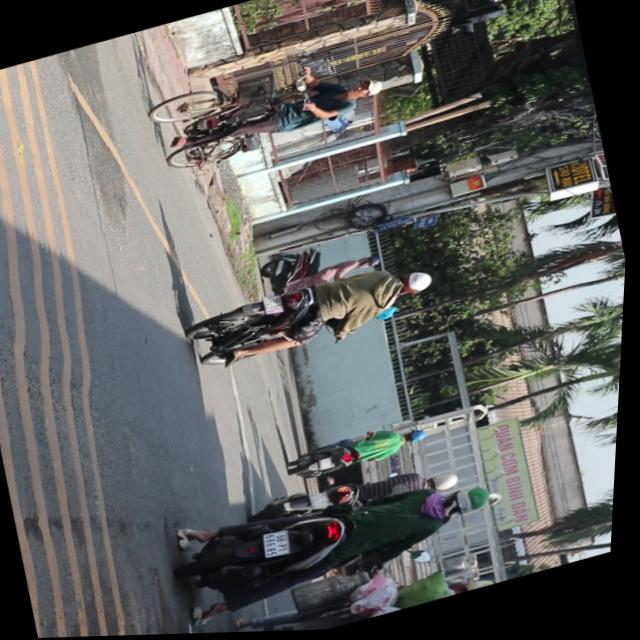helmet: (447, 482, 501, 523), (396, 269, 438, 300), (459, 575, 502, 597), (432, 470, 466, 494)
licenseplate: (172, 454, 511, 625), (143, 39, 395, 181), (183, 248, 448, 381), (238, 559, 512, 634), (246, 452, 467, 540)
motorcyclist: (344, 77, 384, 104)
nohelmet: (266, 529, 299, 559), (265, 295, 288, 318), (316, 491, 338, 510)
